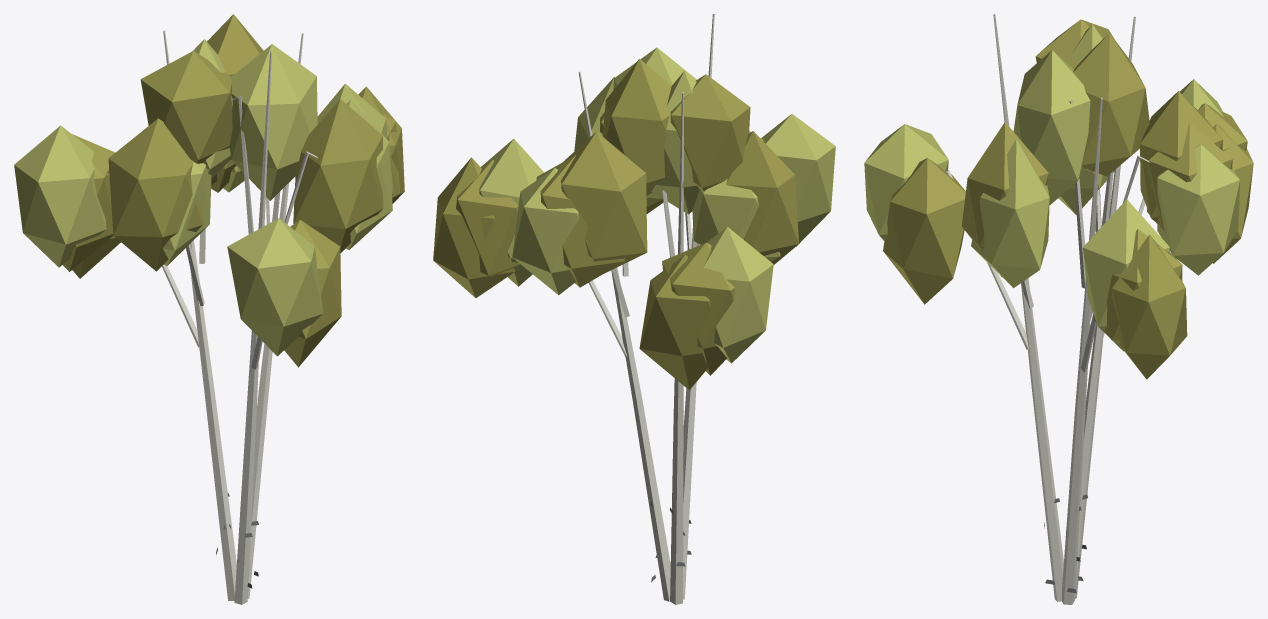
Rendered from birch_autumn_early_02.glb.
3 renders of one model, left to right at view 1: azimuth 30°, elevation 25°; view 2: azimuth 150°, elevation 25°; view 3: azimuth 270°, elevation 25°, orthographic. The views are drawn at different scales.
Visible parts, largest first — view 1: Birch_autumn_early_02; view 2: Birch_autumn_early_02; view 3: Birch_autumn_early_02.
Part boxes in pixels (x1=…): Birch_autumn_early_02: x1=14, y1=14, x2=404, y2=604; Birch_autumn_early_02: x1=433, y1=14, x2=835, y2=604; Birch_autumn_early_02: x1=864, y1=14, x2=1253, y2=604.
Bounding box in the file's own units: 9.85 × 15.14 × 9.14.
